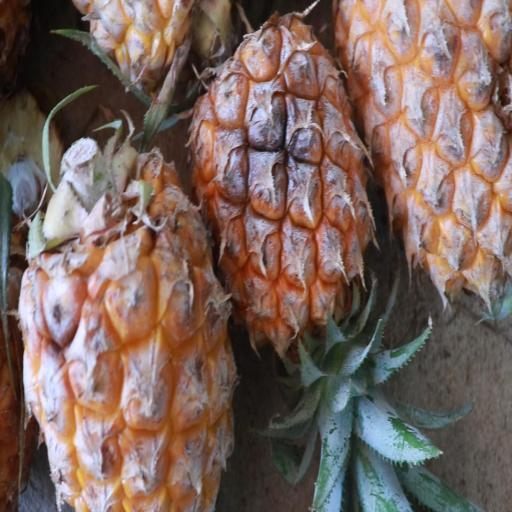Pineapple - v8 v1: (192, 4, 381, 418), (22, 155, 238, 510), (333, 0, 512, 298)
